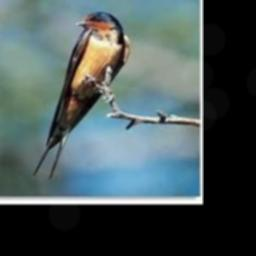Swallow: (33, 11, 131, 179)
